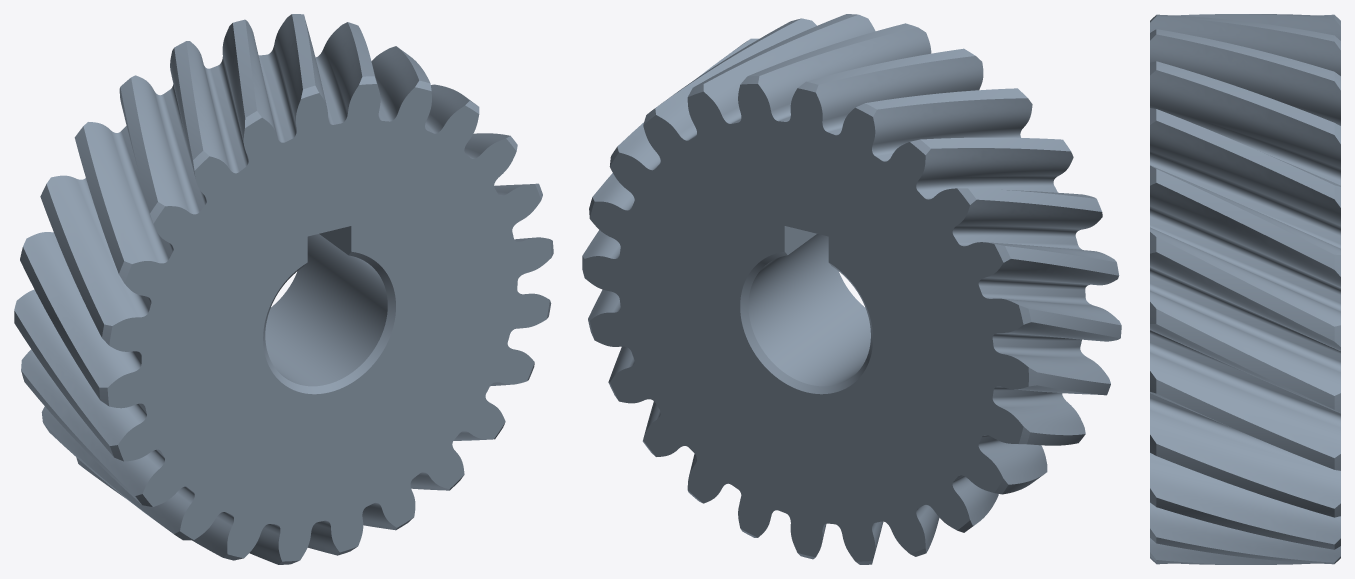
File: helical-gear.glb
The picture shows the model from 3 angles, left to right: view 1: azimuth 30°, elevation 25°; view 2: azimuth 150°, elevation 25°; view 3: azimuth 270°, elevation 25°; orthographic projection. The views are drawn at different scales.
Parts seen in each view (by area): view 1: HelicalGear; view 2: HelicalGear; view 3: HelicalGear.
Boxes of the visible parts, box(x1,y1,x2,y2) form: HelicalGear: box(14, 14, 553, 564); HelicalGear: box(582, 14, 1121, 564); HelicalGear: box(1150, 14, 1340, 564).
Size of the model in its own units: 0.052 by 0.052 by 0.018.
